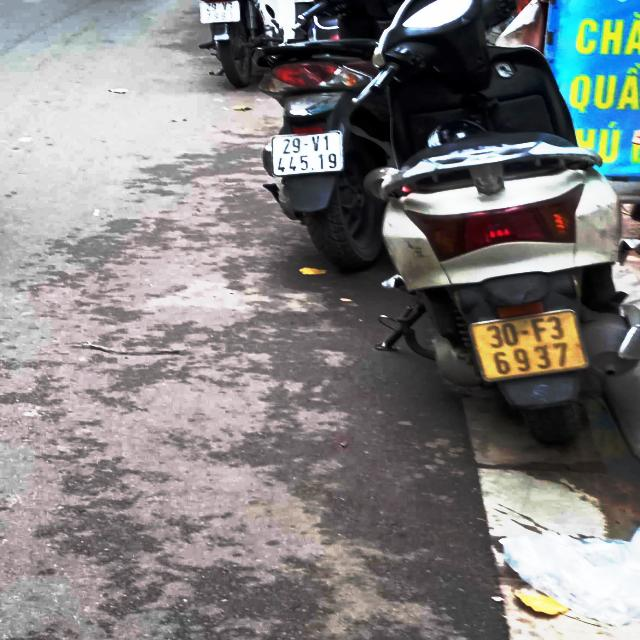license_plate: (459, 304, 600, 390), (266, 127, 350, 182), (198, 1, 244, 27)
